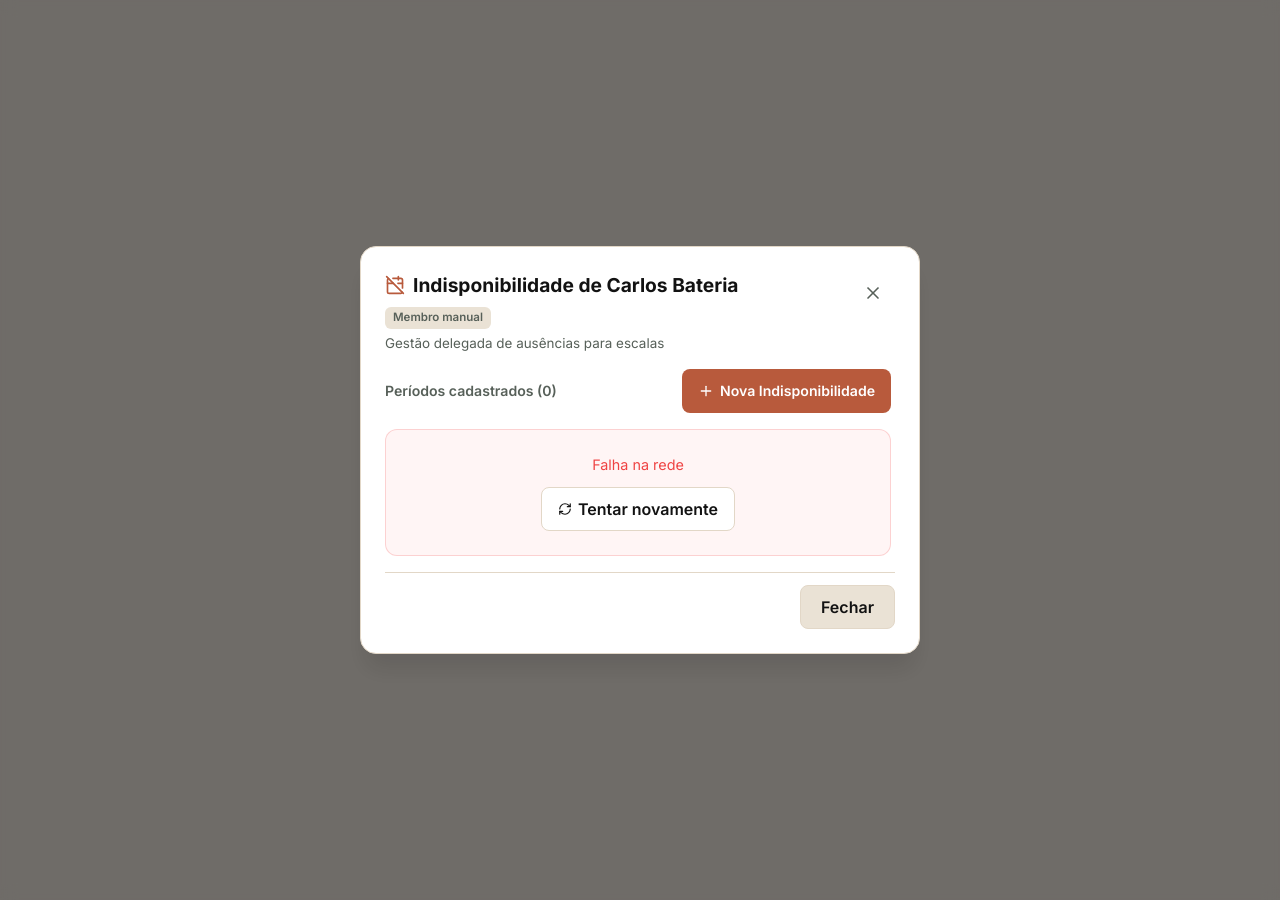
Scenario: ManualMemberAvailabilityModal Component (Phase 6D-2) › 4. exibe estado de erro e permite tentar novamente
Check: the text "Falha na rede" is shown, box top-left (592, 454), bottom-right (684, 475)
Check: the text "Tentar novamente" is shown, box top-left (578, 497), bottom-right (718, 521)
Click the button "Tentar novamente" at [638, 509], box top-left (541, 487), bottom-right (735, 531)
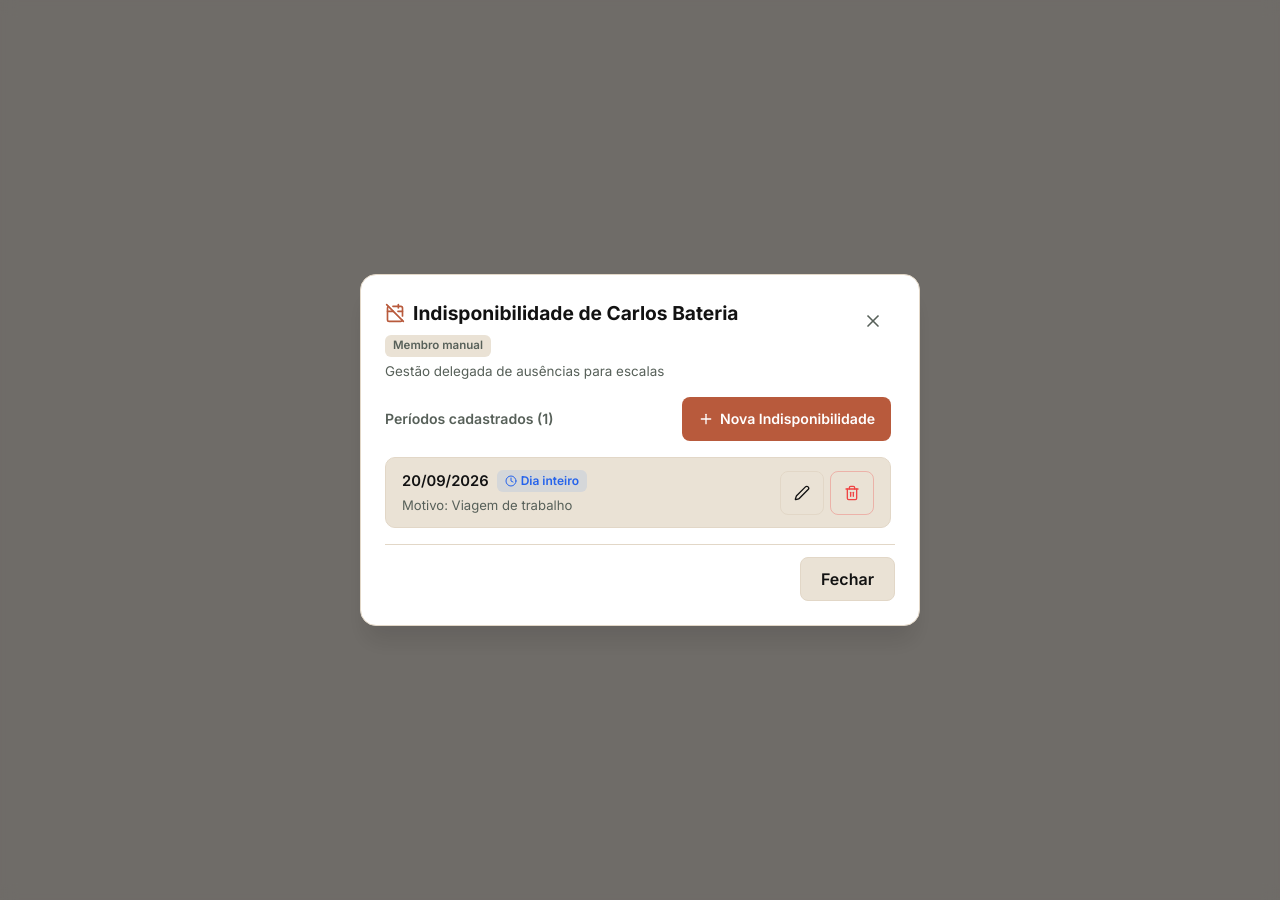
Check: the text "20/09/2026" is shown, box top-left (402, 470), bottom-right (489, 492)
